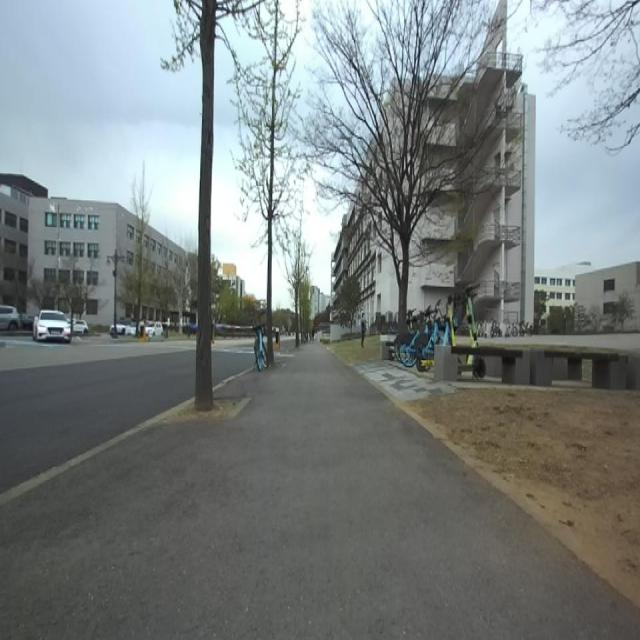sidewalk: (0, 343, 640, 639), (0, 398, 194, 505), (213, 368, 252, 390)
